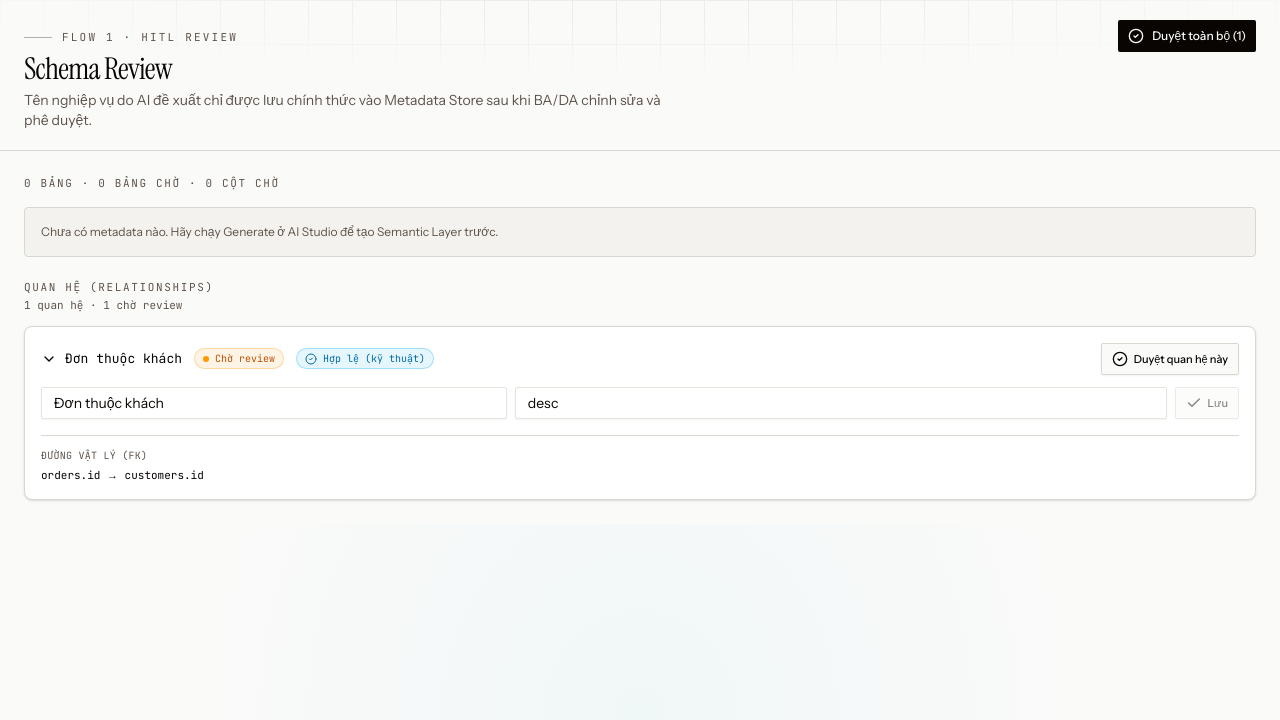
SchemaReviewView relationships › counts a relationship draft in the unsaved-changes banner
The image size is (1280, 720).
Replace the text in the field named "Tên nghiệp vụ" with "Quan hệ đơn khách": (274, 403) x1=41 y1=387 x2=507 y2=419
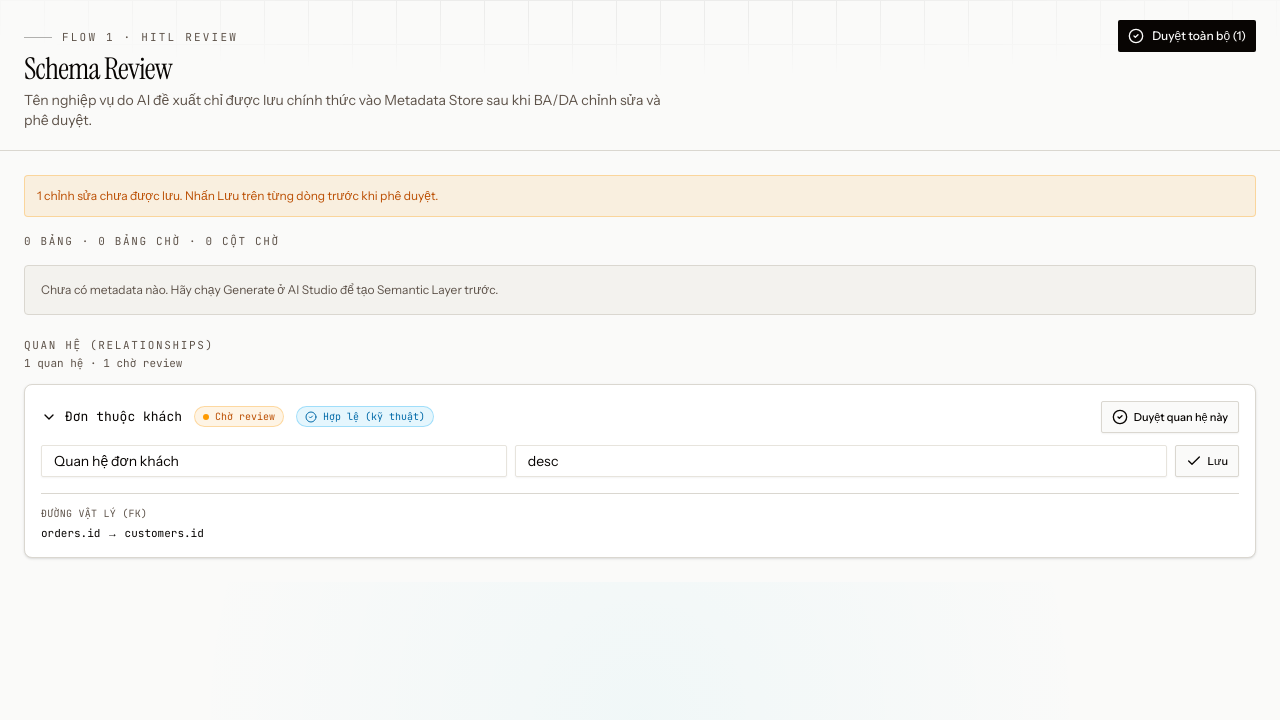
Check: the text "1 chỉnh sửa chưa được lưu" is shown, box x1=24 y1=175 x2=1256 y2=217
